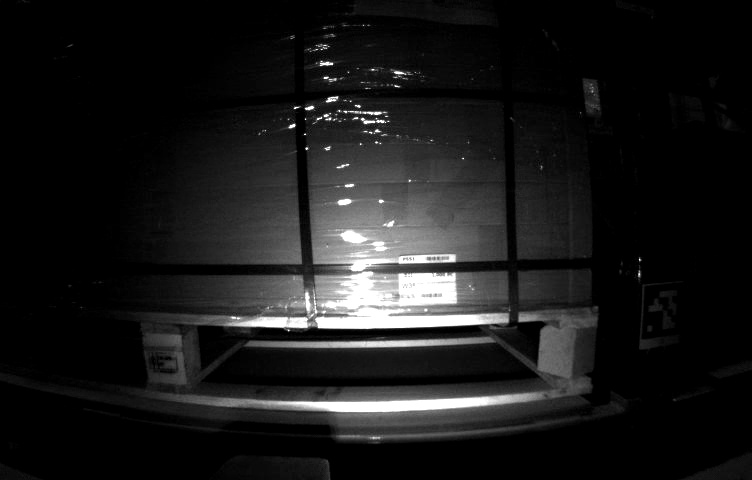True Barcode: (396, 255, 457, 304)
